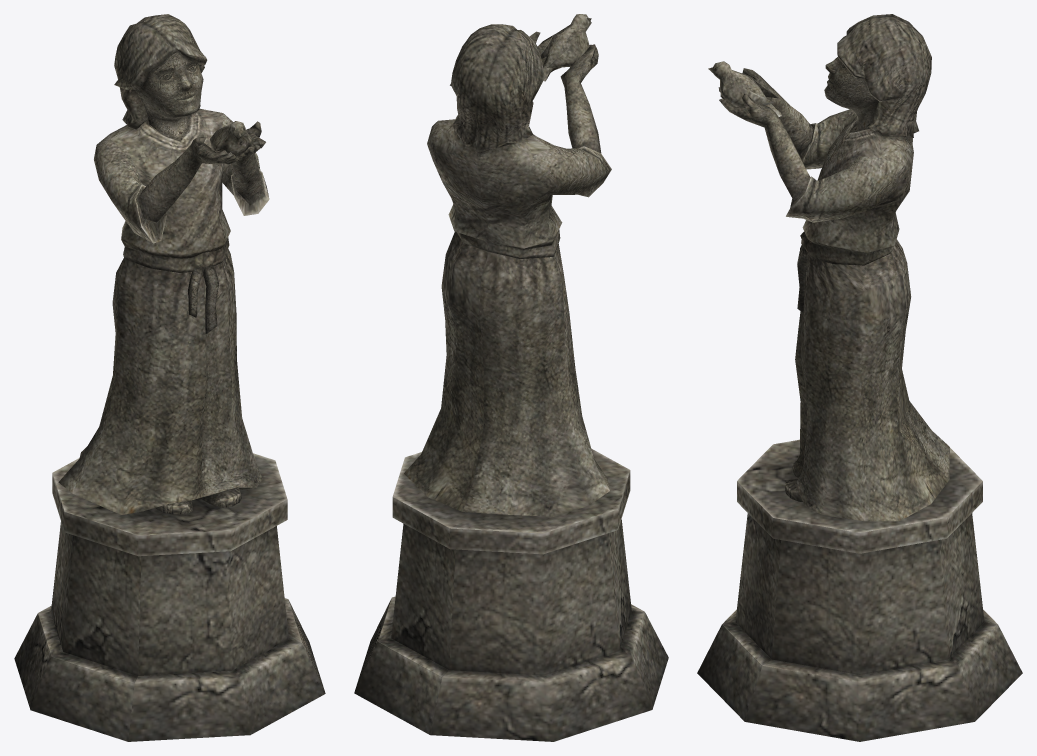
Rendered from girlStatue.dae.
3 views of the same model, side by side, from view 1: azimuth 30°, elevation 25°; view 2: azimuth 150°, elevation 25°; view 3: azimuth 270°, elevation 25° (orthographic).
Parts seen in each view (by area): view 1: girlStatue; view 2: girlStatue; view 3: girlStatue.
Part boxes in pixels (x1,y1,x2,y2): girlStatue: (14,14,325,741); girlStatue: (354,14,668,741); girlStatue: (697,14,1022,741).
Size of the model in its own units: 0.5561 by 1.24 by 0.5563.
Materials: 1 (1 with a texture image).
